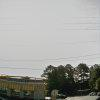Tree: (42, 55, 100, 100)
